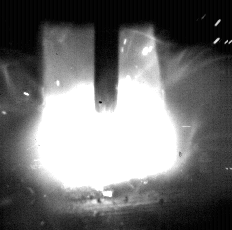arame: (95, 0, 121, 113)
poca: (33, 0, 181, 230)
